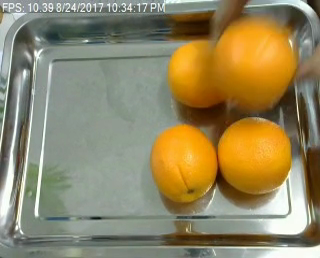Orange: (215, 17, 296, 107), (218, 116, 292, 194), (150, 123, 218, 203), (168, 38, 232, 108)
